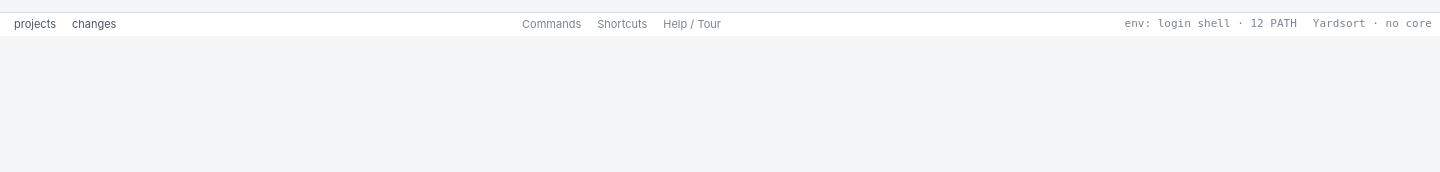
status bar environment indicator › re-reads the environment from anywhere in the app
Click the button "env: login shell · 12 PATH" at (1211, 25), box [1121,16,1301,33]
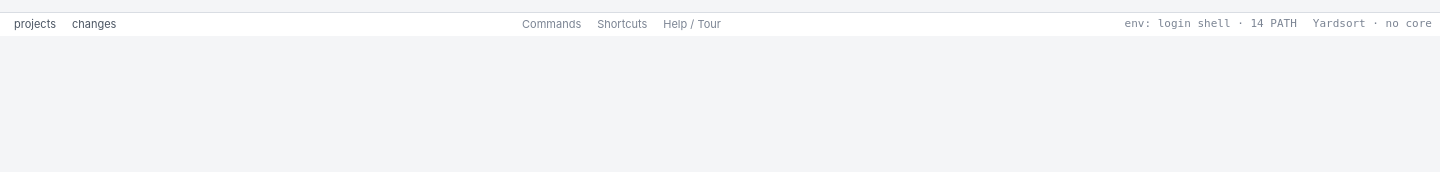
Now the button "env: login shell · 14 PATH" is shown, box [1121,16,1301,33]
